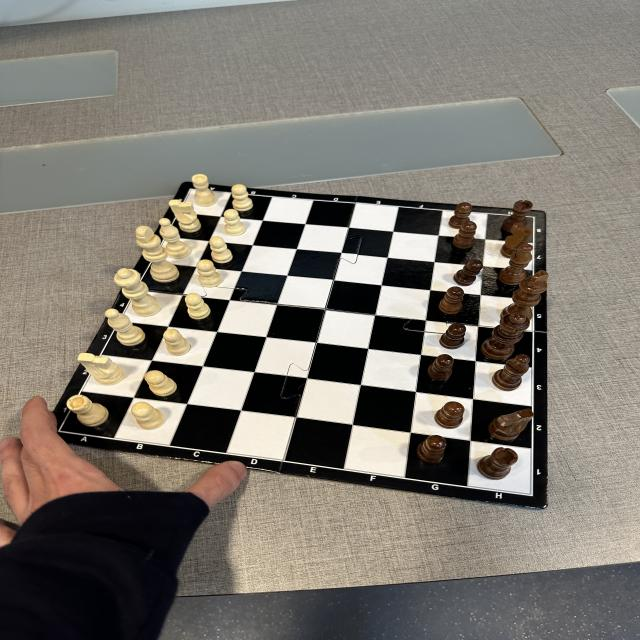Black-Bishop: (492, 354, 531, 392), (501, 243, 533, 285)
Black-King: (502, 270, 549, 321)
Black-Knight: (487, 408, 534, 442), (500, 222, 532, 259)
Black-Pawn: (417, 435, 451, 463), (433, 401, 467, 428), (427, 354, 456, 382), (455, 258, 483, 286), (439, 322, 467, 349), (438, 286, 465, 314), (454, 222, 476, 250), (450, 202, 472, 229)
Black-Queen: (481, 311, 531, 361)
Black-Rook: (476, 448, 519, 480), (505, 200, 534, 233)
White-Bishop: (102, 308, 146, 346), (158, 217, 192, 260)
White-King: (135, 225, 181, 282)
White-Knight: (76, 353, 126, 384), (169, 198, 202, 232)
White-Pawn: (130, 401, 164, 430), (143, 370, 177, 396), (162, 328, 190, 357), (195, 260, 223, 288), (184, 293, 212, 320), (208, 236, 235, 264), (222, 209, 247, 237), (230, 184, 255, 212)
White-Queen: (114, 267, 162, 317)
White-Rook: (66, 394, 109, 426), (190, 173, 219, 207)
